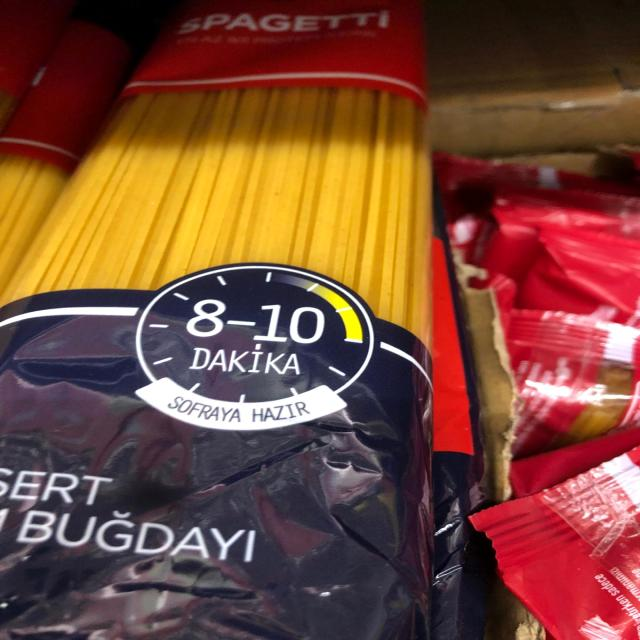spaghetti: (0, 3, 437, 459)
